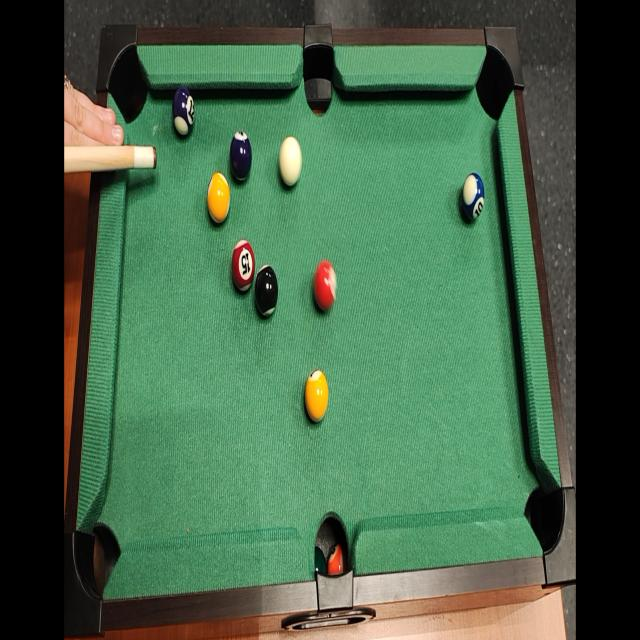cue ball: (276, 133, 304, 193)
other: (228, 127, 256, 191), (170, 83, 197, 144), (254, 263, 281, 323), (312, 258, 338, 319), (206, 168, 233, 226), (304, 367, 330, 426), (232, 236, 256, 296), (462, 171, 484, 223)
